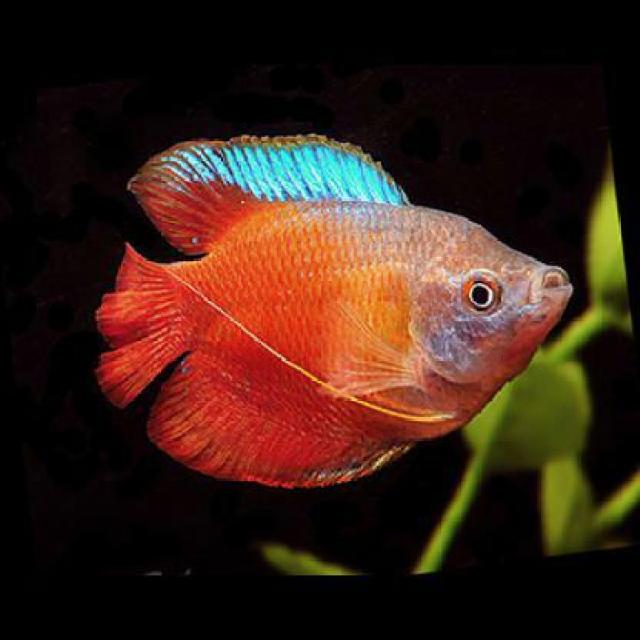Gourami: (101, 132, 567, 480)
